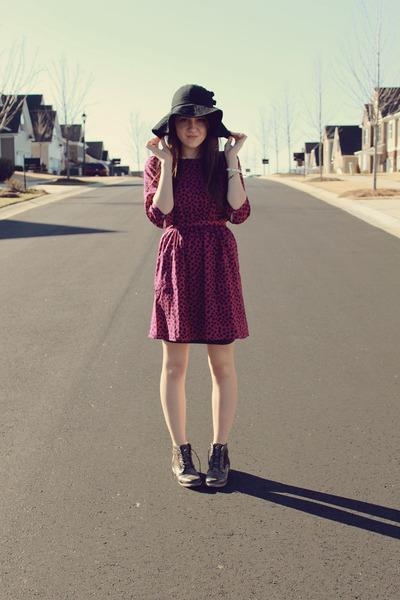dress: (146, 156, 249, 344)
hat: (183, 85, 219, 114)
shoe: (180, 444, 232, 493)
